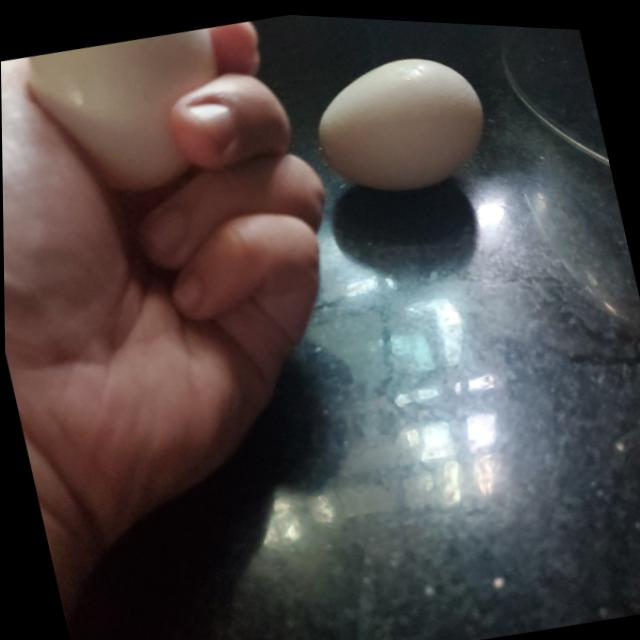egg: (21, 18, 240, 211), (306, 36, 498, 201)
